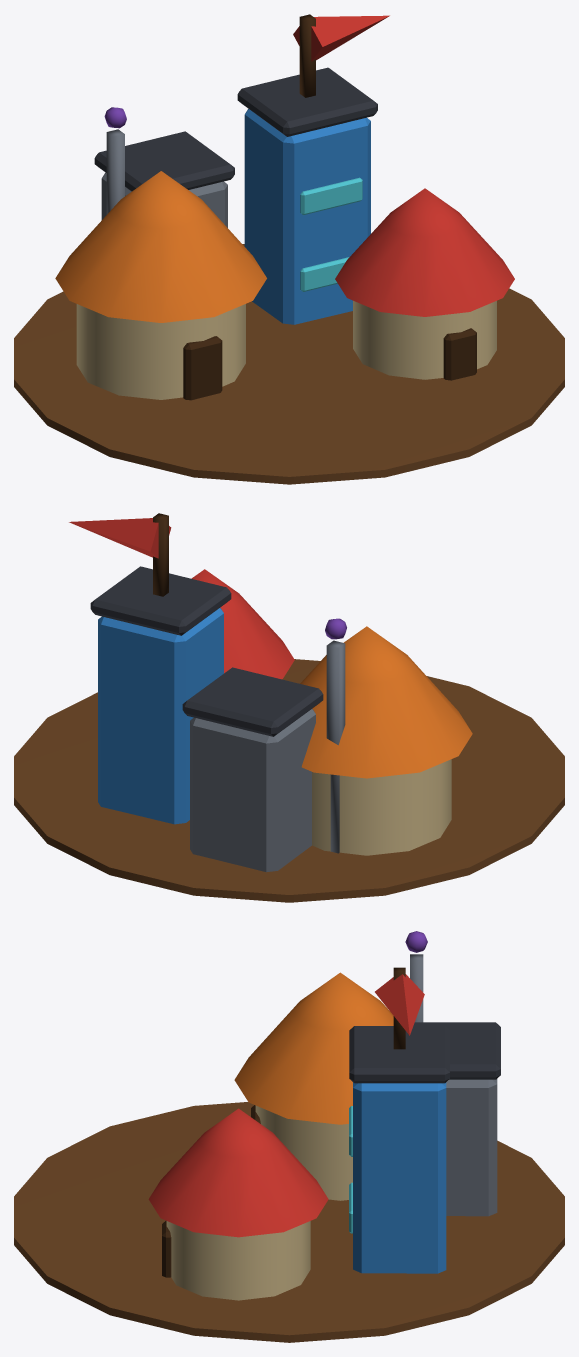
3 views of the same model, one above another, from view 1: azimuth 30°, elevation 25°; view 2: azimuth 150°, elevation 25°; view 3: azimuth 270°, elevation 25° (orthographic).
Parts seen in each view (by area): view 1: vila_0_base; view 2: vila_0_base; view 3: vila_0_base.
Part boxes in pixels (x1=…): vila_0_base: x1=14, y1=14, x2=564, y2=484; vila_0_base: x1=14, y1=513, x2=564, y2=902; vila_0_base: x1=14, y1=931, x2=564, y2=1342.
Bounding box in the file's own units: 1.32 × 0.76 × 1.3.
